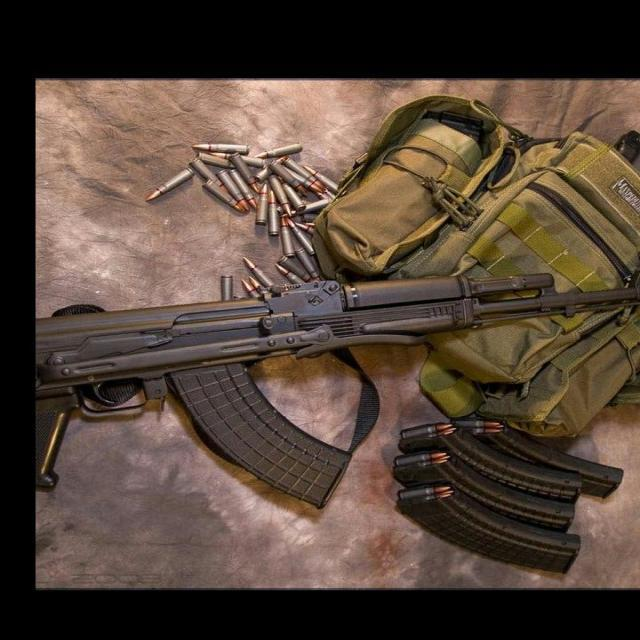weapon: (32, 271, 640, 510)
